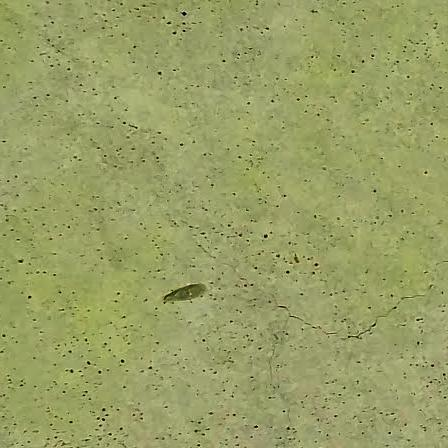crack: (156, 235, 435, 448)
